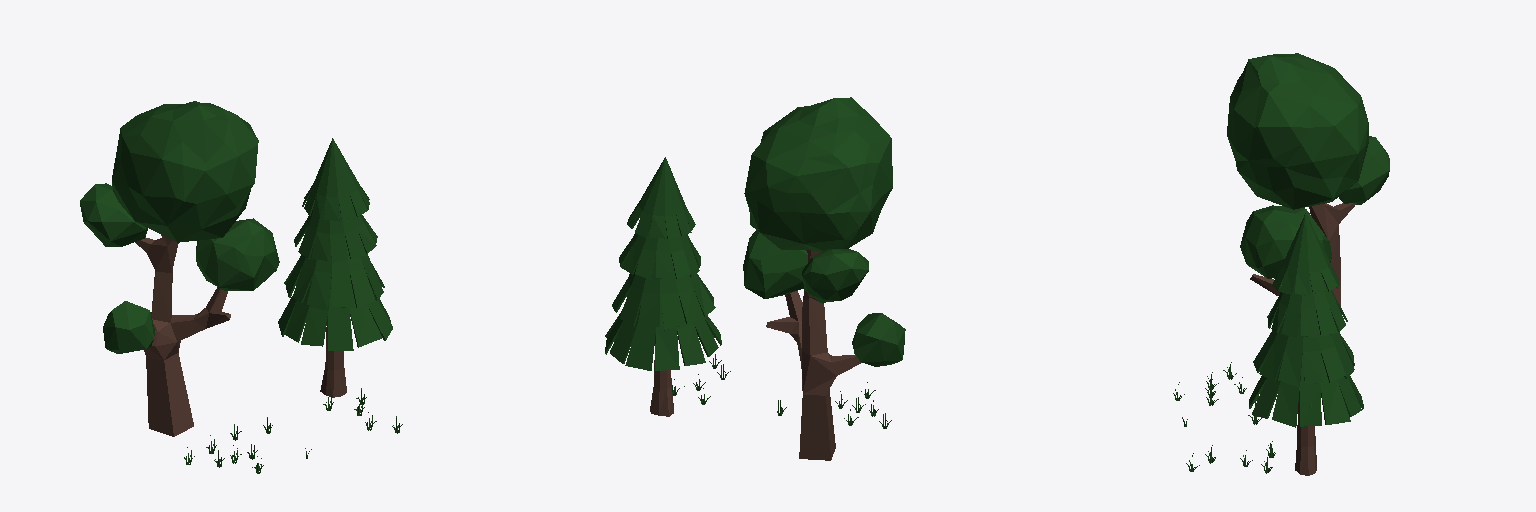
Rendered from tree2.obj.
3 renders of one model, left to right at view 1: azimuth 30°, elevation 25°; view 2: azimuth 150°, elevation 25°; view 3: azimuth 270°, elevation 25°, orthographic.
Parts seen in each view (by area): view 1: Tree1_NaturePack, NaturePack_Tree2, trunk2, trunk1; view 2: Tree1_NaturePack, NaturePack_Tree2, trunk2, trunk1; view 3: Tree1_NaturePack, NaturePack_Tree2, trunk2, trunk1.
Part boxes in pixels (x1,y1,x2,y2): Tree1_NaturePack: (80, 101, 279, 353); NaturePack_Tree2: (278, 138, 392, 350); trunk2: (135, 235, 230, 436); trunk1: (320, 319, 346, 397); Tree1_NaturePack: (743, 97, 905, 366); NaturePack_Tree2: (605, 157, 721, 370); trunk2: (766, 250, 861, 460); trunk1: (650, 337, 673, 416); Tree1_NaturePack: (1227, 53, 1389, 278); NaturePack_Tree2: (1249, 213, 1363, 427); trunk2: (1250, 203, 1356, 332); trunk1: (1295, 391, 1316, 475).
Bounding box in the file's own units: 18.92 × 21.53 × 12.68.